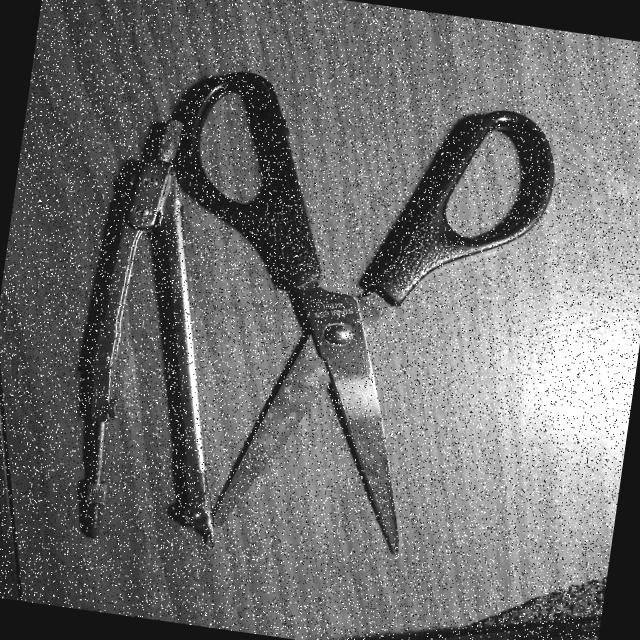scissors: (173, 52, 574, 561)
